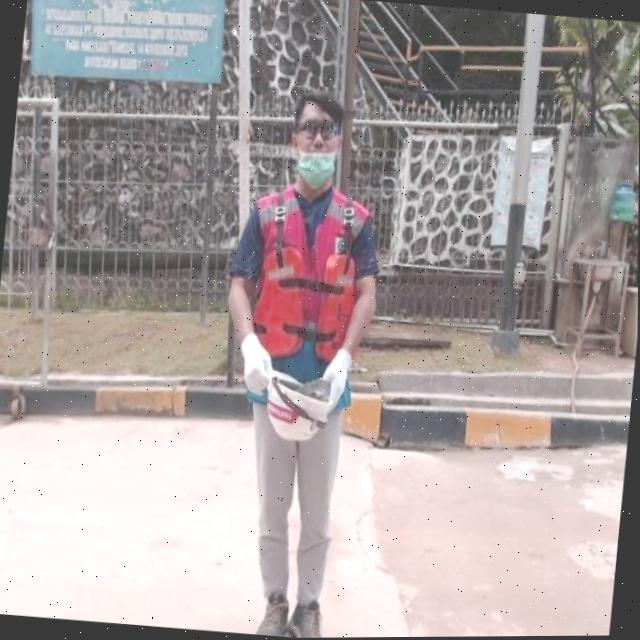goggles_on: (292, 114, 348, 138)
